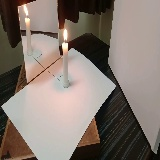fire: (64, 28, 68, 44)
